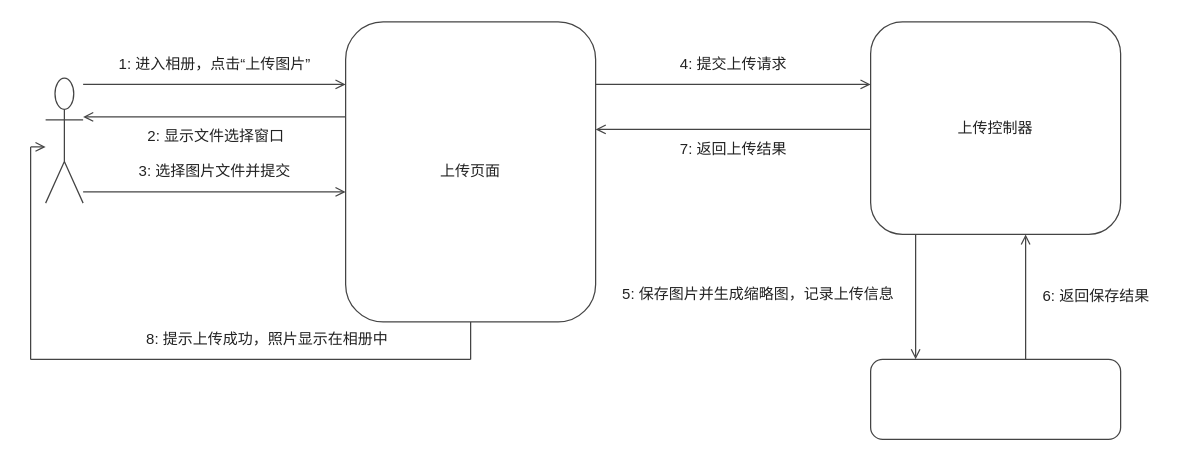
Image size: 1200x461. Some labels were removed from this diagram. Here are the shapes that lost their labels. From the top down, the centre of each, then its label:
point (63, 140): 用户
point (995, 398): 照片
